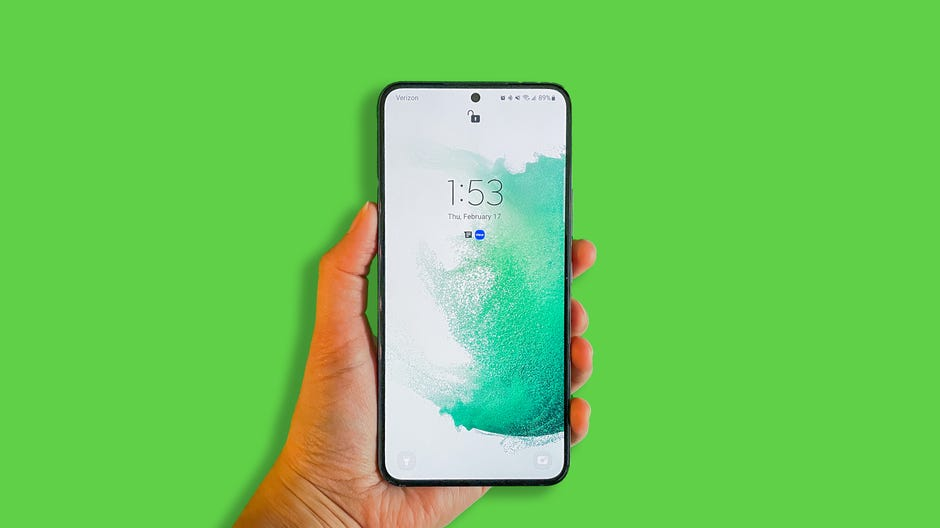phones: (366, 72, 580, 498)
